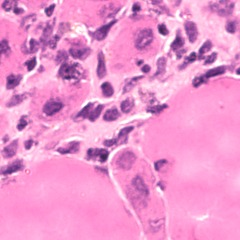New: (107, 15, 162, 72), (27, 82, 87, 123), (1, 16, 31, 88)
